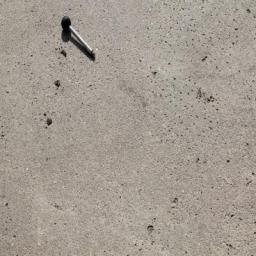FOD: (59, 16, 99, 64)
